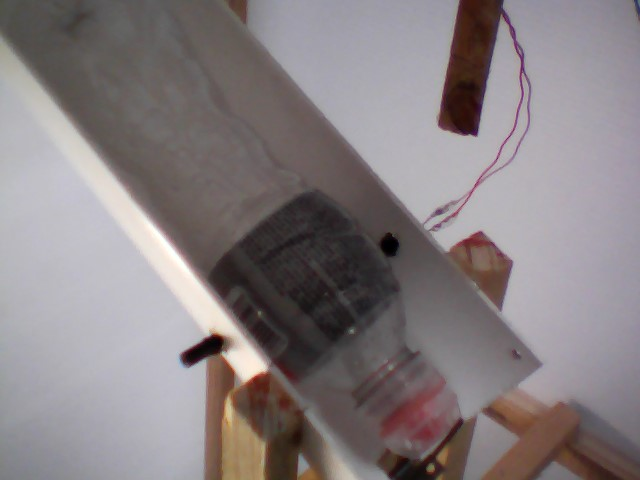plastico: (22, 1, 472, 467)
